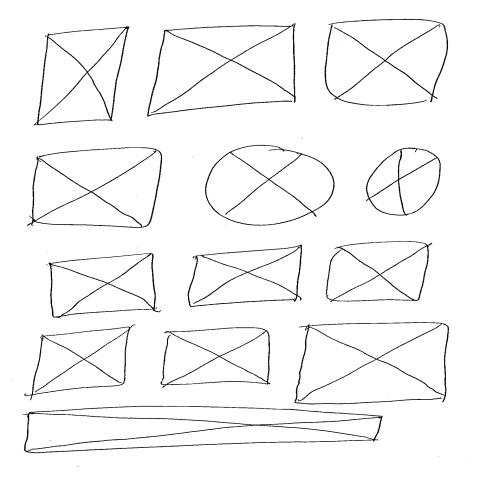Image: (23, 405, 385, 455), (144, 23, 300, 119), (294, 321, 453, 406), (322, 19, 452, 109), (30, 147, 166, 230), (205, 145, 338, 228), (35, 26, 130, 128), (185, 246, 305, 309), (46, 253, 160, 319), (30, 325, 133, 397), (159, 326, 273, 388), (324, 241, 433, 305), (366, 147, 444, 217)
